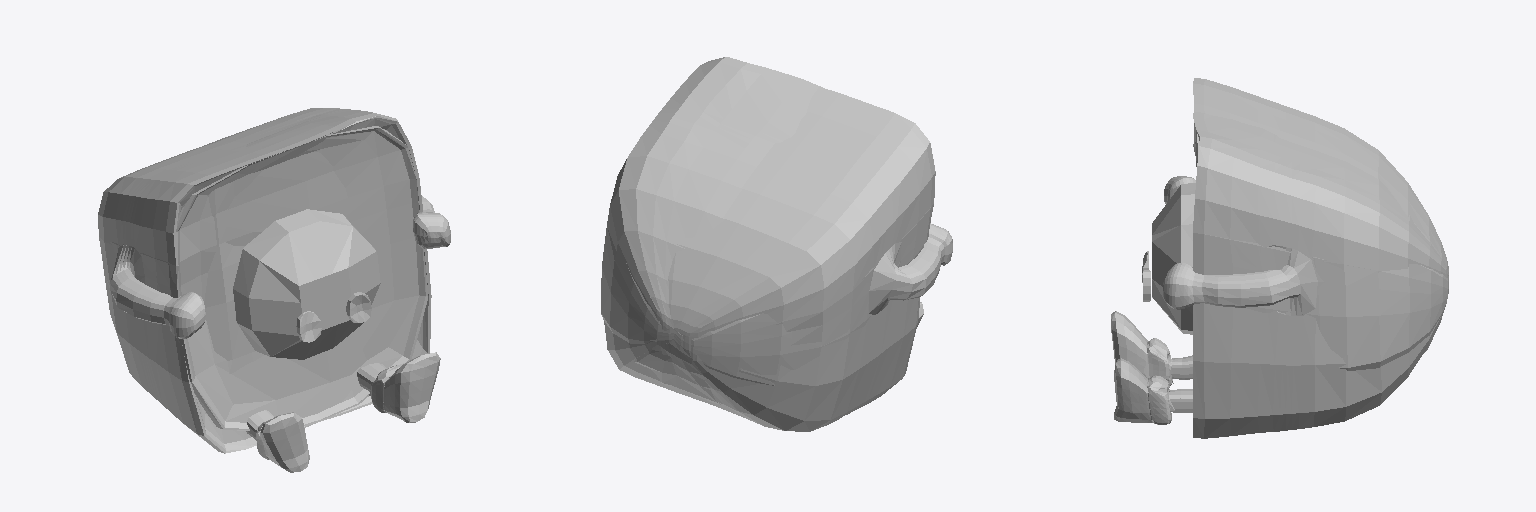
Rendered from Pal_000021.obj.
3 renders of one model, left to right at view 1: azimuth 30°, elevation 25°; view 2: azimuth 150°, elevation 25°; view 3: azimuth 270°, elevation 25°, orthographic.
Parts seen in each view (by area): view 1: Cuerpo_de_aguacate_3.001_Cube.002, Hueso_Cubo.003, Ojos_Cubo.002; view 2: Cuerpo_de_aguacate_3.001_Cube.002; view 3: Cuerpo_de_aguacate_3.001_Cube.002, Hueso_Cubo.003.
Part boxes in pixels (x1,y1,x2,y2): Cuerpo_de_aguacate_3.001_Cube.002: (98, 108, 450, 472); Hueso_Cubo.003: (233, 209, 380, 359); Ojos_Cubo.002: (296, 292, 371, 342); Cuerpo_de_aguacate_3.001_Cube.002: (601, 57, 952, 431); Cuerpo_de_aguacate_3.001_Cube.002: (1111, 78, 1448, 438); Hueso_Cubo.003: (1152, 183, 1195, 334).
Bounding box in the file's own units: 1.02 × 0.9833 × 1.01.